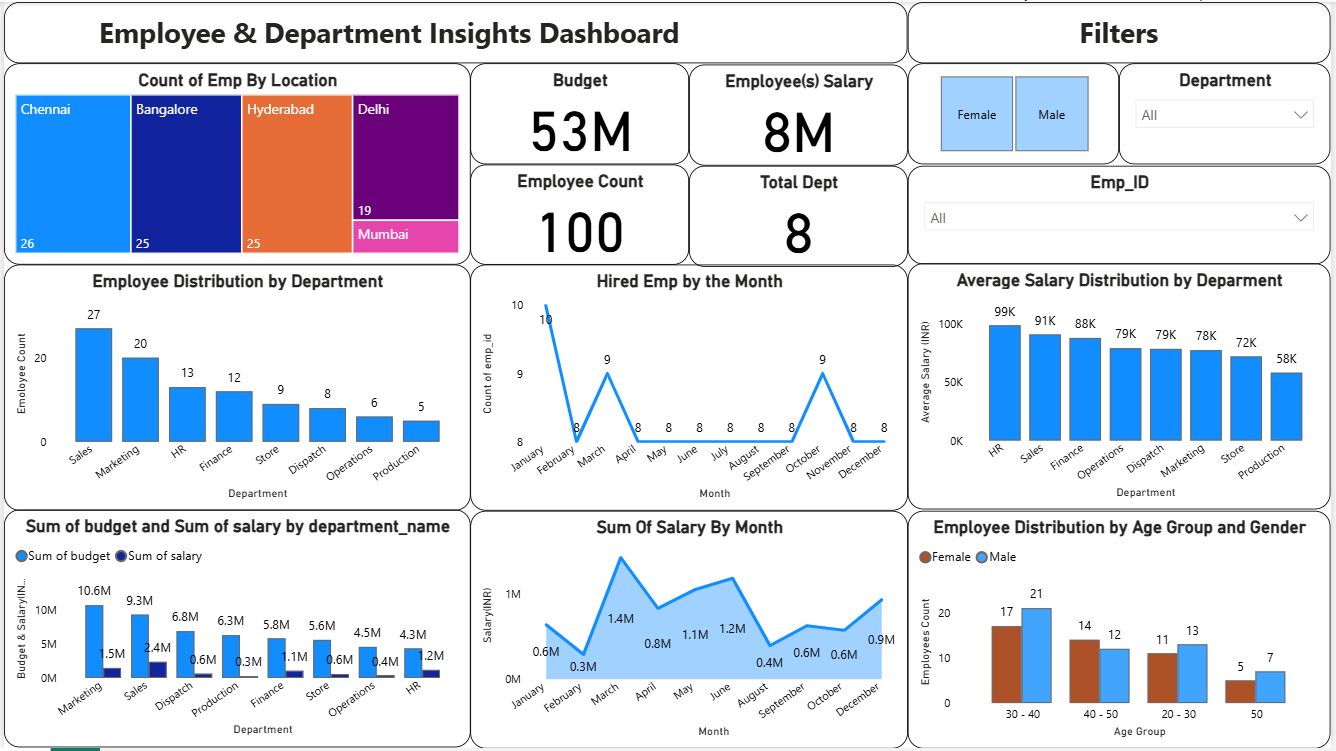

The page's visual inventory and layout, read from the dashboard file:
{"tool":"powerbi","page":{"name":"Page 1","canvas":[1280,720],"ordinal":0},"visuals":[{"type":"clusteredColumnChart","title":"Employee Distribution by Age Group and Gender","fields":{"Category":["emp.Age_Group"],"Y":["Count(emp.emp_id)"],"Series":["emp.gender"]},"box":[872.3,491,407.8,229.2],"z":0},{"type":"clusteredColumnChart","title":"Employee Distribution by Department","fields":{"Category":["dept.department_name"],"Y":["CountNonNull(emp.emp_id)"]},"box":[0,253.4,450,237.7],"z":1000},{"type":"card","title":"Budget","fields":{"Values":["Sum(dept.budget)"]},"box":[450,59.1,211.1,97.7],"z":2000},{"type":"columnChart","title":"Average Salary Distribution by Deparment","fields":{"Category":["dept.department_name"],"Y":["Avg(emp.salary)"]},"box":[872.3,252.1,407.8,237.7],"z":3000},{"type":"stackedAreaChart","title":"Sum Of Salary By Month","fields":{"Category":["dept.salary_date.Variation.Date Hierarchy.Month"],"Y":["Sum(emp.salary)"]},"box":[450,491,422.3,229.2],"z":4000},{"type":"clusteredColumnChart","fields":{"Y":["Sum(dept.budget)","Sum(emp.salary)"],"Category":["dept.department_name"]},"box":[0,489.8,450,229.2],"z":5000},{"type":"lineChart","title":"Hired Emp by the Month","fields":{"Category":["emp.hire_date.Variation.Date Hierarchy.Month"],"Y":["CountNonNull(emp.emp_id)"]},"box":[450,253.4,422.3,237.7],"z":6000},{"type":"card","title":"Employee Count","fields":{"Values":["CountNonNull(emp.emp_id)"]},"box":[450,156.8,211.1,96.5],"z":7000},{"type":"textbox","box":[0,0,872.3,59.1],"z":8000},{"type":"treemap","title":"Count of Emp By Location","fields":{"Group":["dept.office_location"],"Values":["CountNonNull(emp.emp_id)"]},"box":[0,59.1,450,194.2],"z":9000},{"type":"textbox","box":[872.3,0,407.8,59.1],"z":10000},{"type":"slicer","fields":{"Values":["emp.gender"]},"box":[872.3,59.1,203.9,97.7],"z":11000},{"type":"slicer","title":"Department","fields":{"Values":["dept.department_name"]},"box":[1076.1,59.1,203.9,97.7],"z":12000},{"type":"card","title":"Employee(s) Salary","fields":{"Values":["Sum(emp.salary)"]},"box":[661.1,60.3,211.1,97.7],"z":13000},{"type":"slicer","title":"Emp_ID","fields":{"Values":["emp.emp_id"]},"box":[872.3,158,407.8,95.3],"z":14000},{"type":"card","title":"Total Dept","fields":{"Values":["Count(dept.department_name)"]},"box":[661.1,158,211.1,97.7],"z":15000}]}

Visuals, with their boxes in screenshot pixels (x1, y1, x2, y2), scaled from the page's 1280x720 canvas onto the 1336x751 screenshot:
"Employee Distribution by Age Group and Gender" clusteredColumnChart: Rect(910, 512, 1335, 750)
"Employee Distribution by Department" clusteredColumnChart: Rect(0, 264, 470, 512)
"Budget" card: Rect(470, 62, 690, 164)
"Average Salary Distribution by Deparment" columnChart: Rect(910, 263, 1335, 511)
"Sum Of Salary By Month" stackedAreaChart: Rect(470, 512, 910, 750)
clusteredColumnChart - Sum(dept.budget) x Sum(emp.salary): Rect(0, 511, 470, 750)
"Hired Emp by the Month" lineChart: Rect(470, 264, 910, 512)
"Employee Count" card: Rect(470, 164, 690, 264)
textbox: Rect(0, 0, 910, 62)
"Count of Emp By Location" treemap: Rect(0, 62, 470, 264)
textbox: Rect(910, 0, 1335, 62)
slicer - emp.gender: Rect(910, 62, 1123, 164)
"Department" slicer: Rect(1123, 62, 1335, 164)
"Employee(s) Salary" card: Rect(690, 63, 910, 165)
"Emp_ID" slicer: Rect(910, 165, 1335, 264)
"Total Dept" card: Rect(690, 165, 910, 267)
